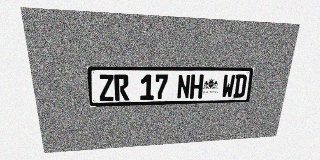1: (140, 74, 154, 100)
7: (154, 74, 168, 100)
D: (233, 74, 247, 98)
H: (189, 74, 204, 99)
N: (177, 74, 191, 99)
R: (114, 74, 129, 101)
W: (221, 74, 235, 98)
Z: (98, 74, 114, 101)
